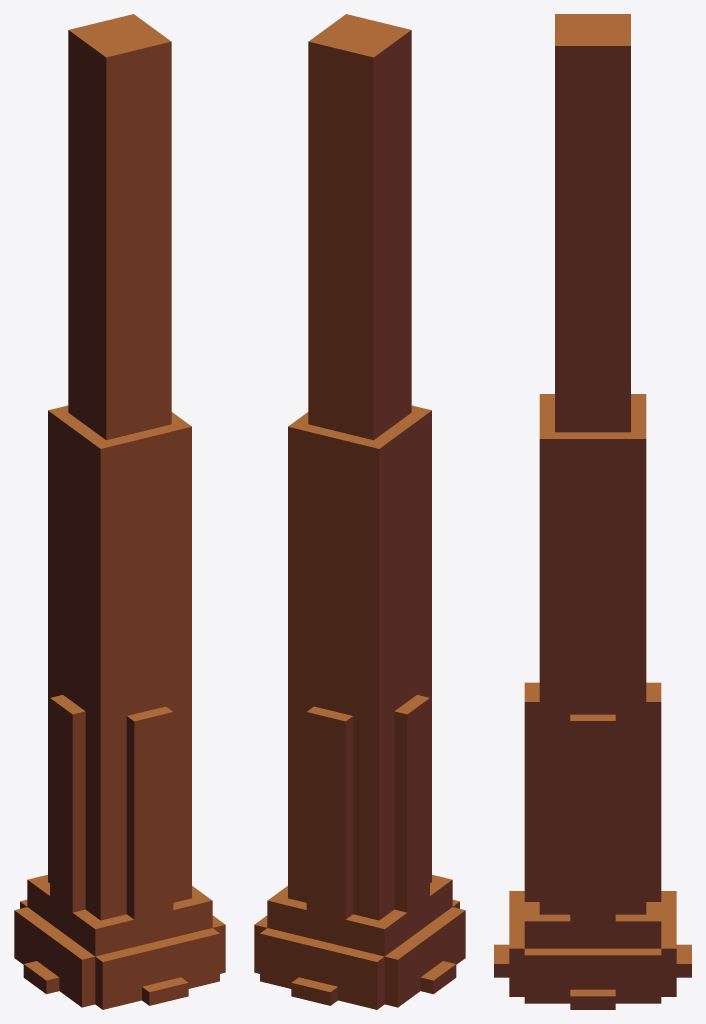
File: GR_Redwood_01.FBX
3 renders of one model, left to right at view 1: azimuth 30°, elevation 25°; view 2: azimuth 150°, elevation 25°; view 3: azimuth 270°, elevation 25°, orthographic.
Parts seen in each view (by area): view 1: Redwood_01; view 2: Redwood_01; view 3: Redwood_01.
Boxes of the visible parts, <box> form: Redwood_01: <box>14,14,225,1009</box>; Redwood_01: <box>254,14,465,1009</box>; Redwood_01: <box>494,14,691,1009</box>.
Bounding box in the file's own units: 260 × 1360 × 260.
